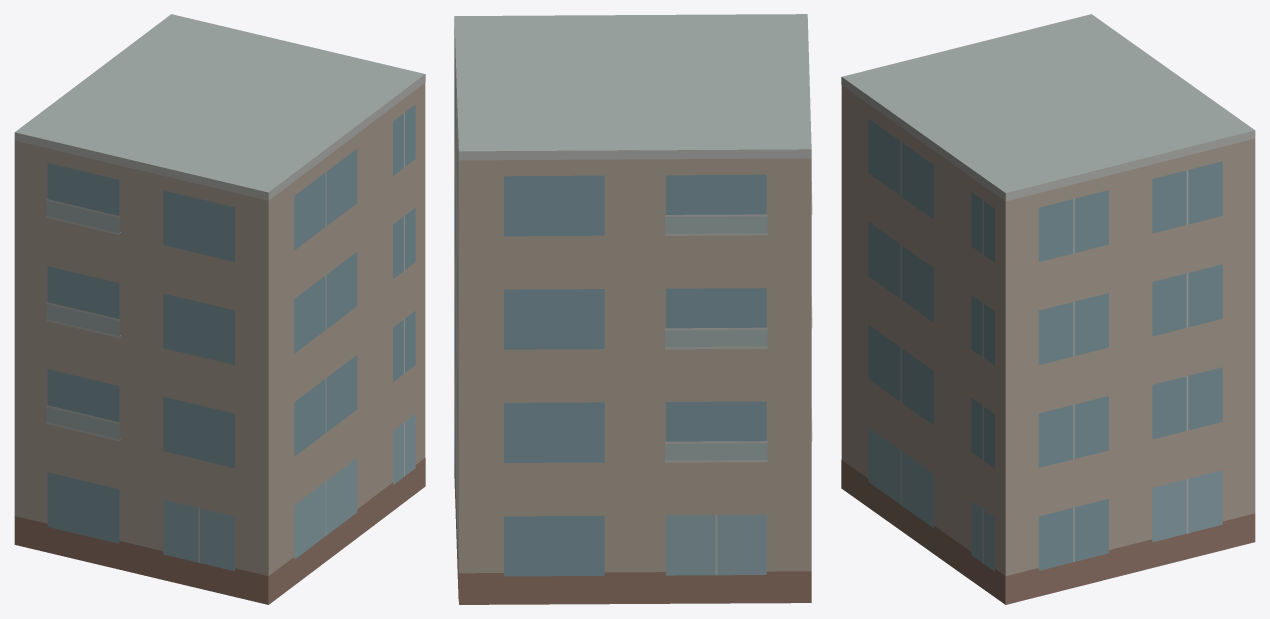
File: residential-d583fc22-78d9-4dfc-93f0-0552288dbb87.glb
3 renders of one model, left to right at view 1: azimuth 30°, elevation 25°; view 2: azimuth 150°, elevation 25°; view 3: azimuth 270°, elevation 25°, orthographic. The views are drawn at different scales.
Visible parts, largest first — view 1: residential-d583fc22-78d9-4dfc-93f0-0552288dbb87.tmp; view 2: residential-d583fc22-78d9-4dfc-93f0-0552288dbb87.tmp; view 3: residential-d583fc22-78d9-4dfc-93f0-0552288dbb87.tmp.
Part boxes in pixels (box(x1,y1,x2,y2)): residential-d583fc22-78d9-4dfc-93f0-0552288dbb87.tmp: box(14, 14, 425, 604); residential-d583fc22-78d9-4dfc-93f0-0552288dbb87.tmp: box(454, 14, 812, 604); residential-d583fc22-78d9-4dfc-93f0-0552288dbb87.tmp: box(841, 14, 1255, 604).
Bounding box in the file's own units: 11.4 × 12.2 × 11.12.
